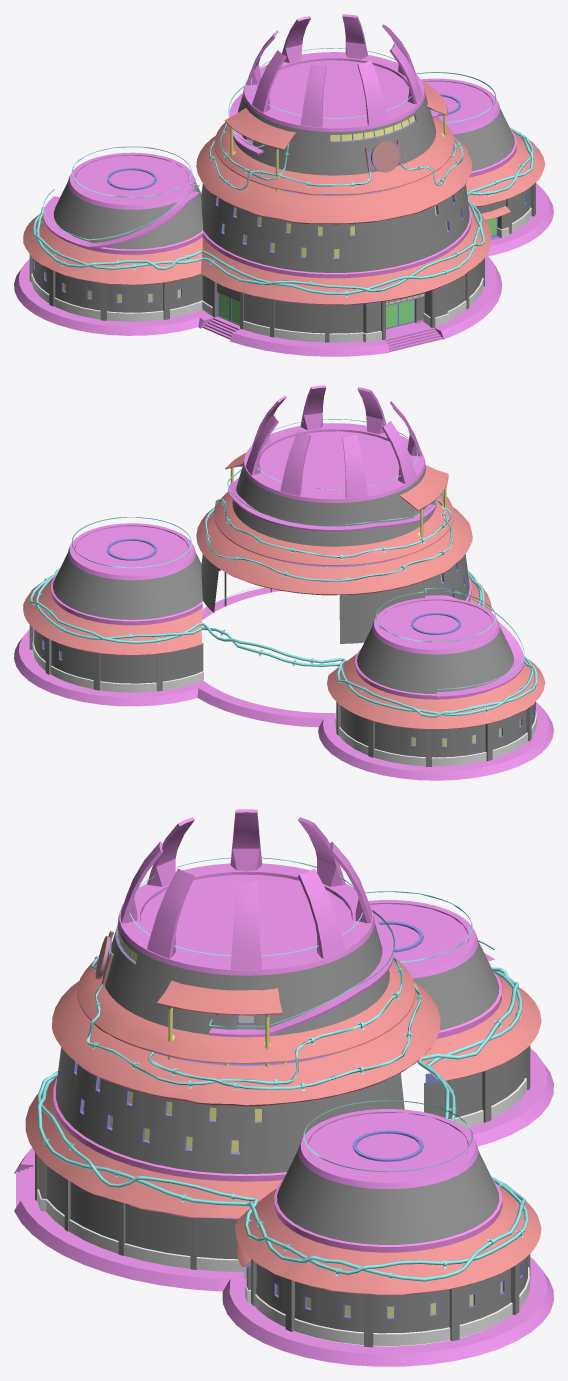
Rendered from SM_ENV_LKNVLD_Hokage_Lod1.gltf.
The picture shows the model from 3 angles, top to bottom: view 1: azimuth 30°, elevation 25°; view 2: azimuth 150°, elevation 25°; view 3: azimuth 270°, elevation 25°; orthographic projection. The views are drawn at different scales.
Visible parts, largest first — view 1: SM_ENV_LKNVLD_Hokage_Lod1; view 2: SM_ENV_LKNVLD_Hokage_Lod1; view 3: SM_ENV_LKNVLD_Hokage_Lod1.
Part boxes in pixels (bbox=[...]): SM_ENV_LKNVLD_Hokage_Lod1: bbox=[14, 14, 553, 356]; SM_ENV_LKNVLD_Hokage_Lod1: bbox=[14, 385, 553, 780]; SM_ENV_LKNVLD_Hokage_Lod1: bbox=[14, 809, 553, 1366].
Bounding box in the file's own units: 76.66 × 35.45 × 50.1.
